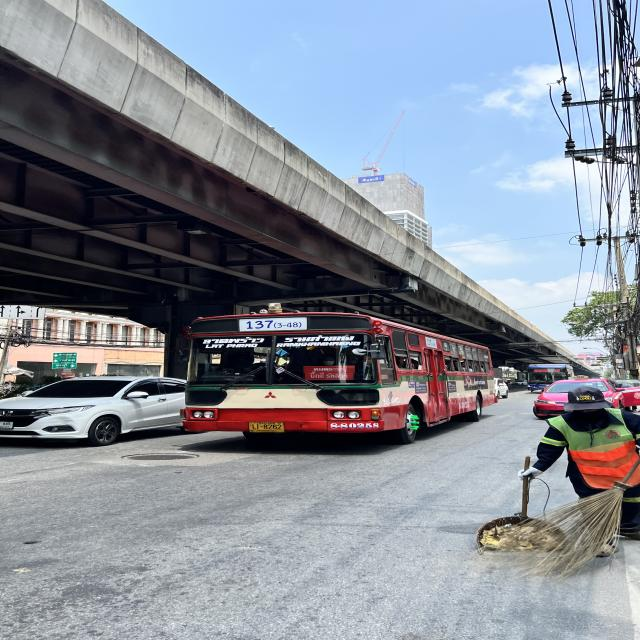BMTA-bus: (167, 299, 507, 449)
Bus-Line-Number: (238, 317, 306, 330), (553, 368, 561, 372)
Destination-Sign-Extra-Bus: (304, 364, 357, 379)
Destination-Sign-Normal: (534, 368, 553, 372)
TSB-Bus: (522, 362, 576, 392)
